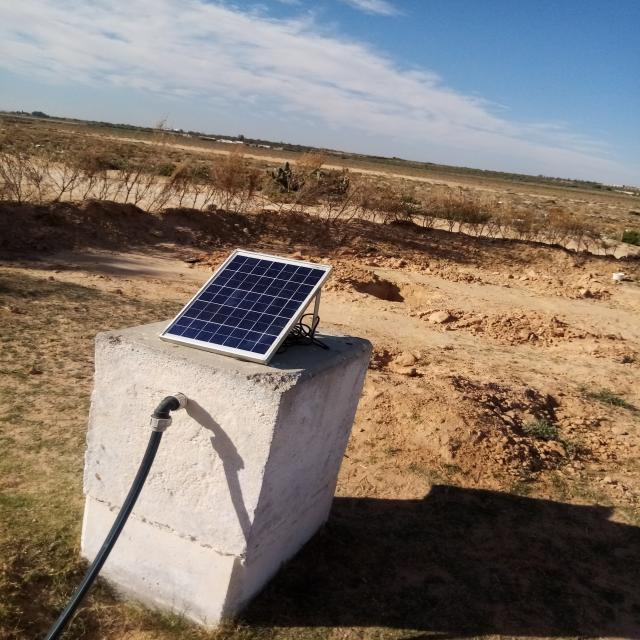no faulty: (160, 249, 332, 360)
